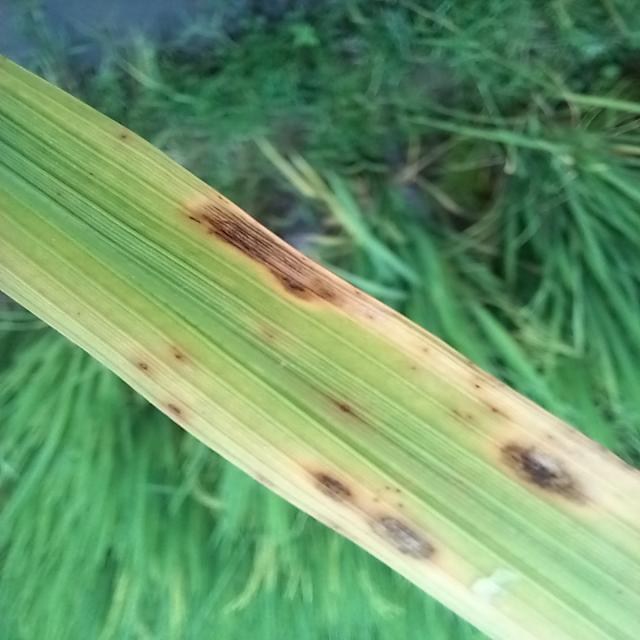Rice Tungro: (187, 194, 361, 313), (498, 440, 595, 506), (298, 464, 374, 516), (368, 513, 440, 562)
